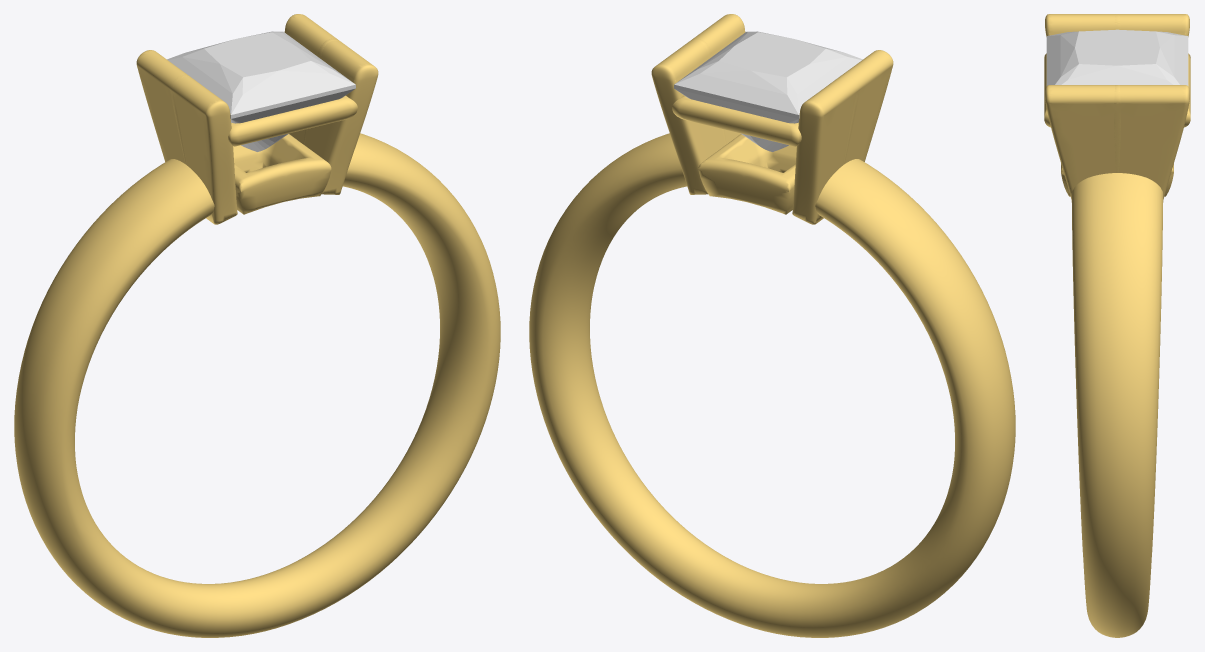
Rendered from diamond-princess-yellowgold-halfmoonbezel-taperedband-solitaire.glb.
3 renders of one model, left to right at view 1: azimuth 30°, elevation 25°; view 2: azimuth 150°, elevation 25°; view 3: azimuth 270°, elevation 25°, orthographic.
Visible parts, largest first — view 1: metal, stone; view 2: metal, stone; view 3: metal, stone.
Part boxes in pixels (box(x1,y1,x2,y2)): metal: box(14, 14, 500, 637); stone: box(167, 31, 355, 151); metal: box(529, 14, 1015, 637); stone: box(674, 31, 862, 151); metal: box(1044, 14, 1190, 637); stone: box(1046, 29, 1188, 85).
Size of the model in its own units: 20.5 by 23.85 by 5.6.
